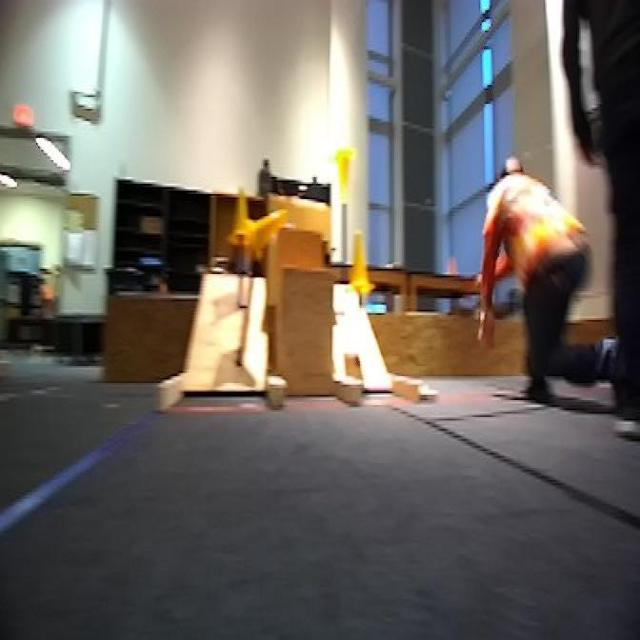frc_cone: (343, 230, 373, 303), (252, 206, 292, 259), (330, 146, 360, 211), (229, 189, 256, 247)
